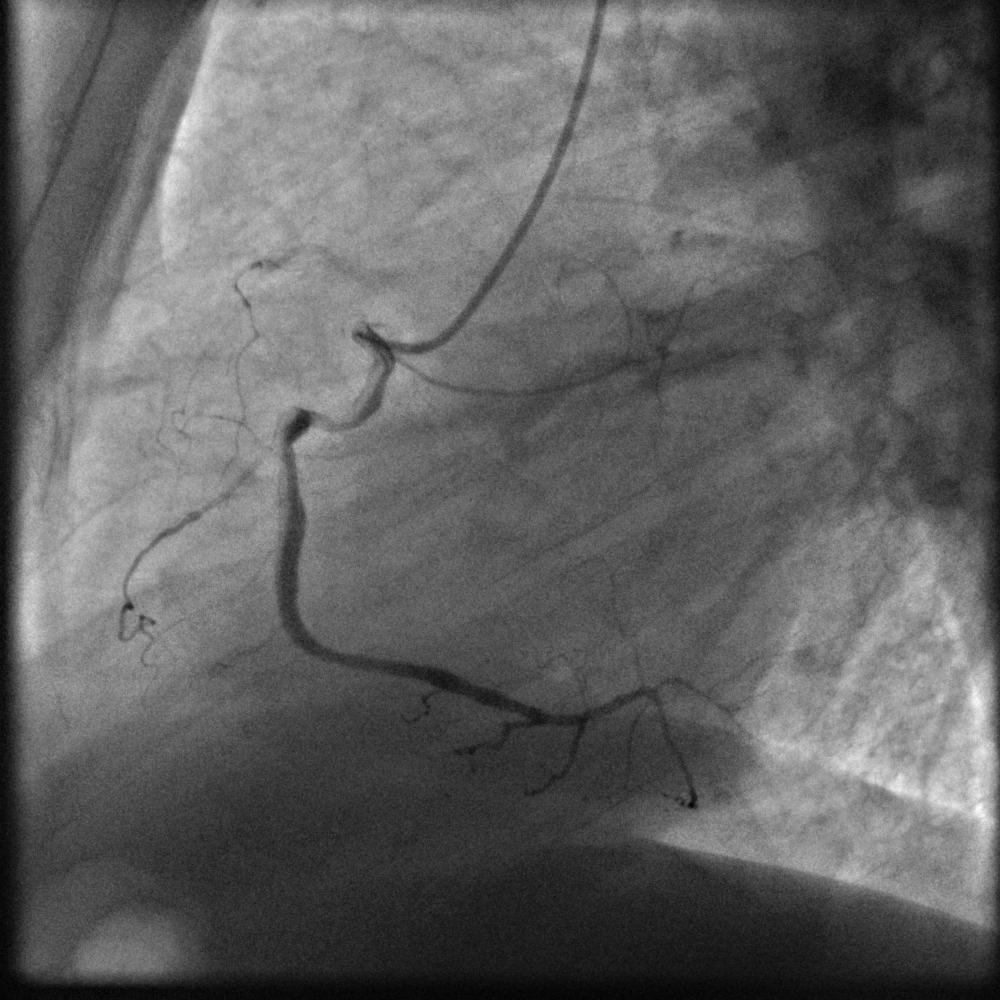Stenosis: (303, 405, 326, 435)
